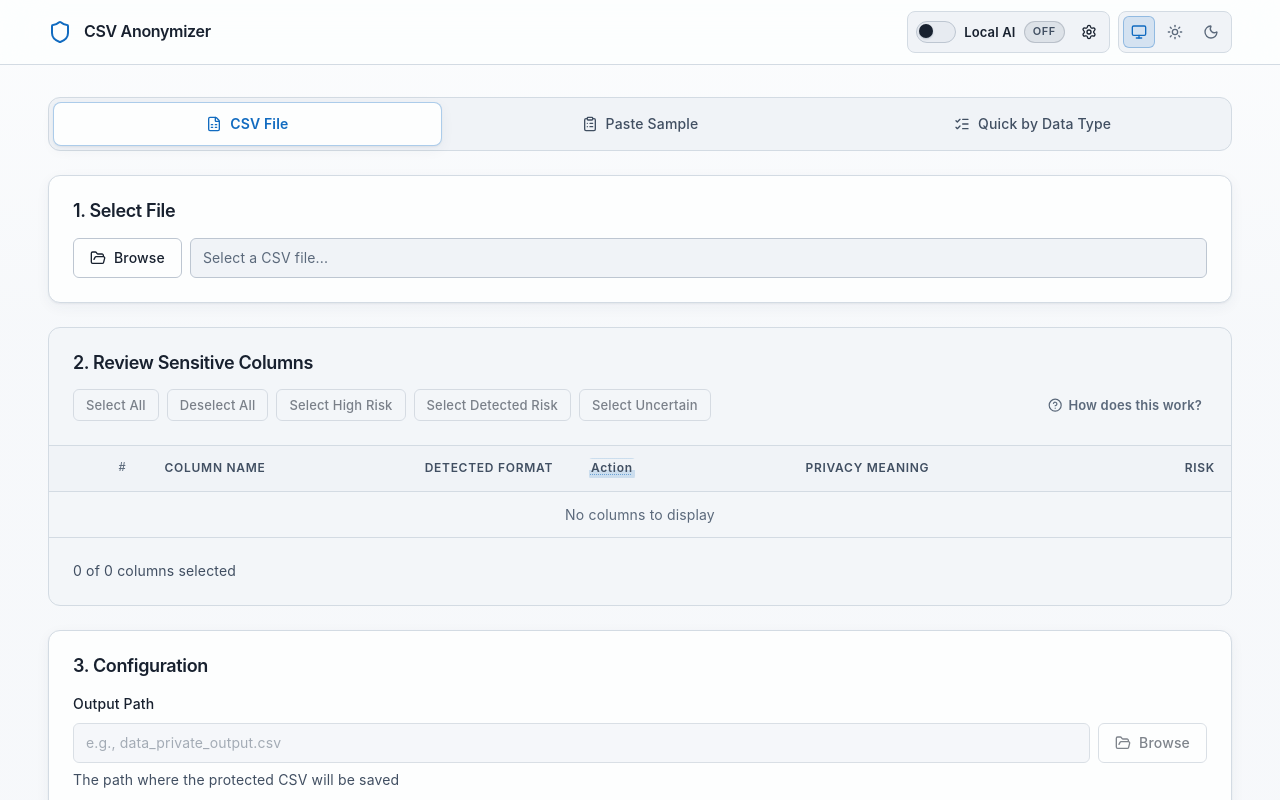
Scenario: App input mode tabs › keeps controls scoped to the active tab
This screenshot has width=1280, height=800.
expect the button with aria-label "browse for csv file" is shown: met, box [73,238,182,278]
Click the tab "Paste Sample": (640,124) [446,102,834,146]
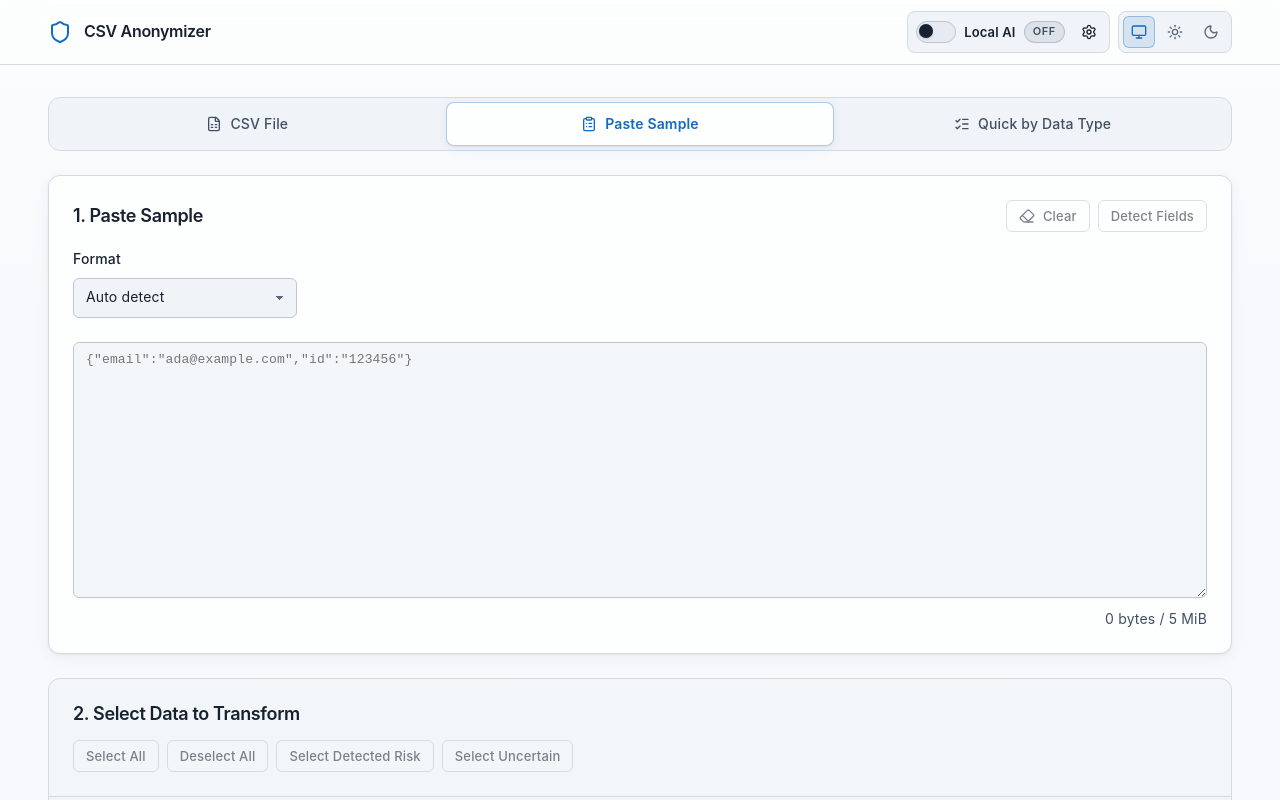
expect the dropdown labelled "Format" is shown: met, box [73,278,297,318]
expect the button "Detect Fields" is shown: met, box [1098,200,1207,232]
Click the tab "Quick by Data Type": (1033,124) [838,102,1227,146]
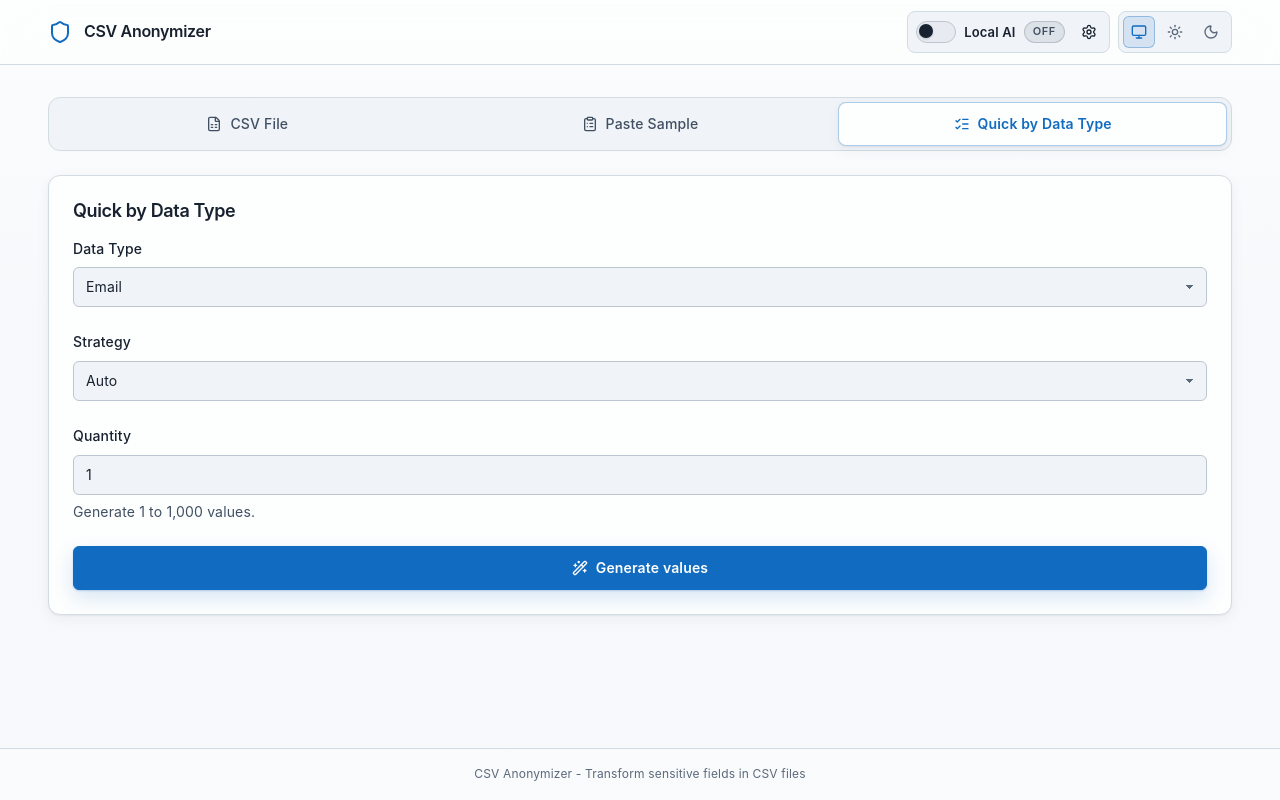
expect the dropdown labelled "Data Type" is shown: met, box [73,267,1207,307]
expect the number field labelled "Quantity" is shown: met, box [73,455,1207,495]
expect the button "Generate values" is shown: met, box [73,546,1207,590]
